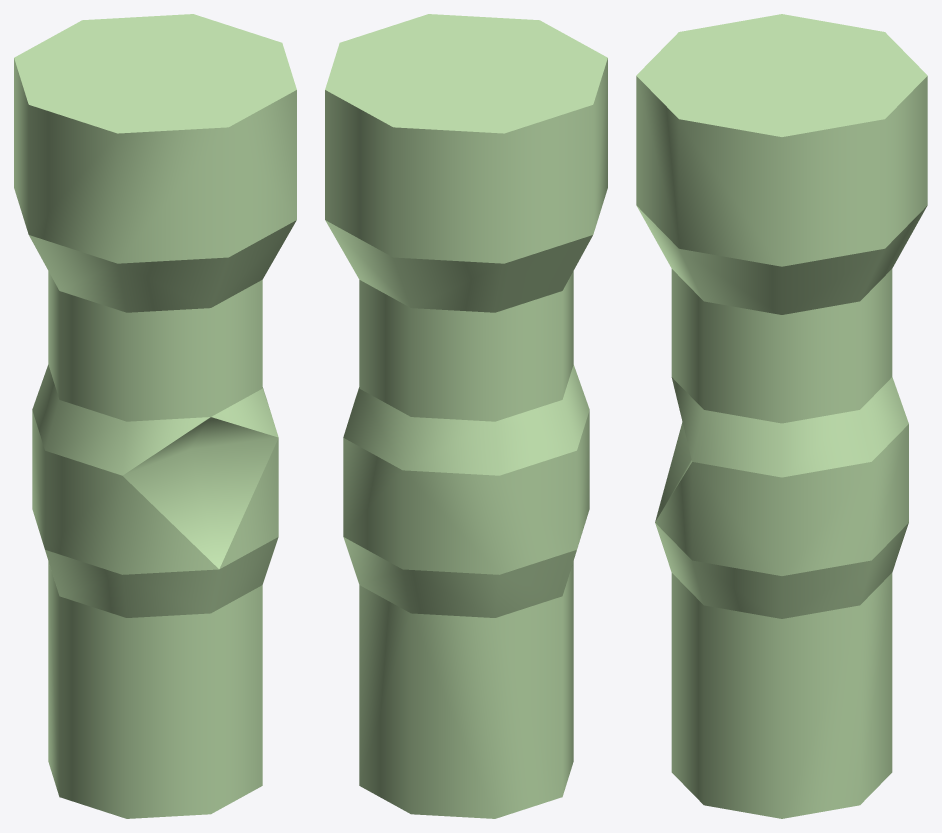
The picture shows the model from 3 angles, left to right: view 1: azimuth 30°, elevation 25°; view 2: azimuth 150°, elevation 25°; view 3: azimuth 270°, elevation 25°; orthographic projection.
Visible parts, largest first — view 1: Object11; view 2: Object11; view 3: Object11.
Part boxes in pixels (box(x1,y1,x2,y2)): Object11: box(14, 14, 296, 818); Object11: box(325, 14, 607, 818); Object11: box(636, 14, 927, 818).
Size of the model in its own units: 96.26 by 254 by 96.26.
